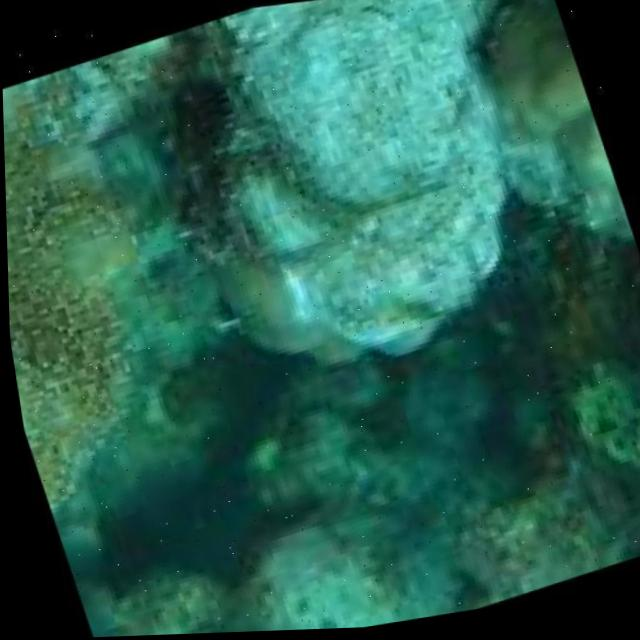Bleached Coral: (196, 0, 547, 380)
